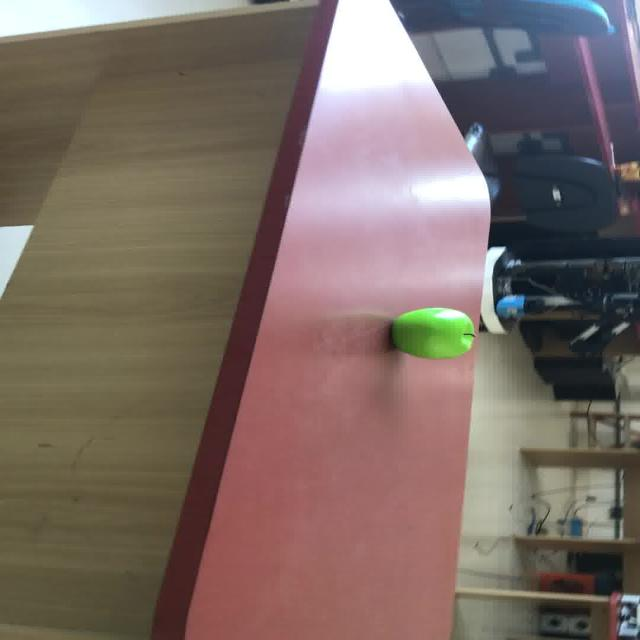apple: (390, 306, 476, 359)
